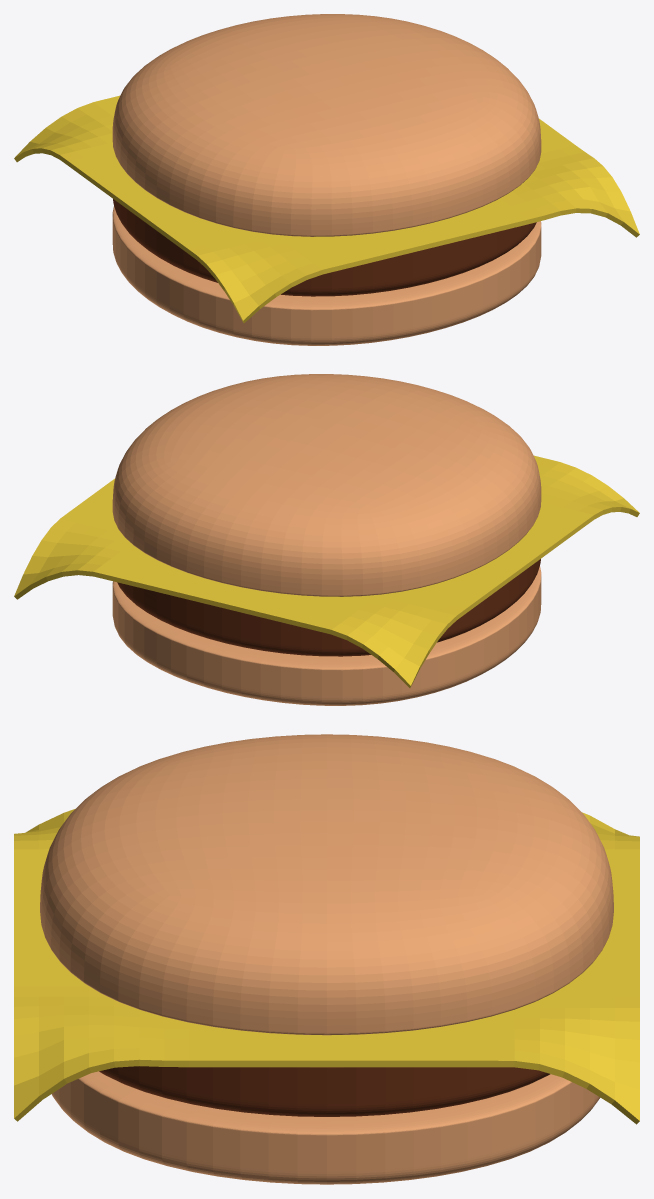
The model's file is burger.glb.
The picture shows the model from 3 angles, top to bottom: view 1: azimuth 30°, elevation 25°; view 2: azimuth 150°, elevation 25°; view 3: azimuth 270°, elevation 25°; orthographic projection. The views are drawn at different scales.
Parts seen in each view (by area): view 1: Cube.001, Plane, Cube, Cube.002; view 2: Cube.001, Plane, Cube, Cube.002; view 3: Cube.001, Plane, Cube, Cube.002.
Part boxes in pixels (box(x1,y1,x2,y2)): Cube.001: box(112, 14, 541, 236); Plane: box(14, 95, 639, 323); Cube: box(112, 206, 541, 345); Cube.002: box(113, 199, 536, 296); Cube.001: box(112, 374, 541, 596); Plane: box(14, 455, 639, 687); Cube: box(112, 566, 541, 705); Cube.002: box(117, 559, 540, 656); Cube.001: box(40, 734, 613, 1035); Plane: box(14, 809, 639, 1124); Cube: box(51, 1071, 600, 1184); Cube.002: box(99, 1066, 550, 1116).
Size of the model in its own units: 20 by 9.72 by 20.
